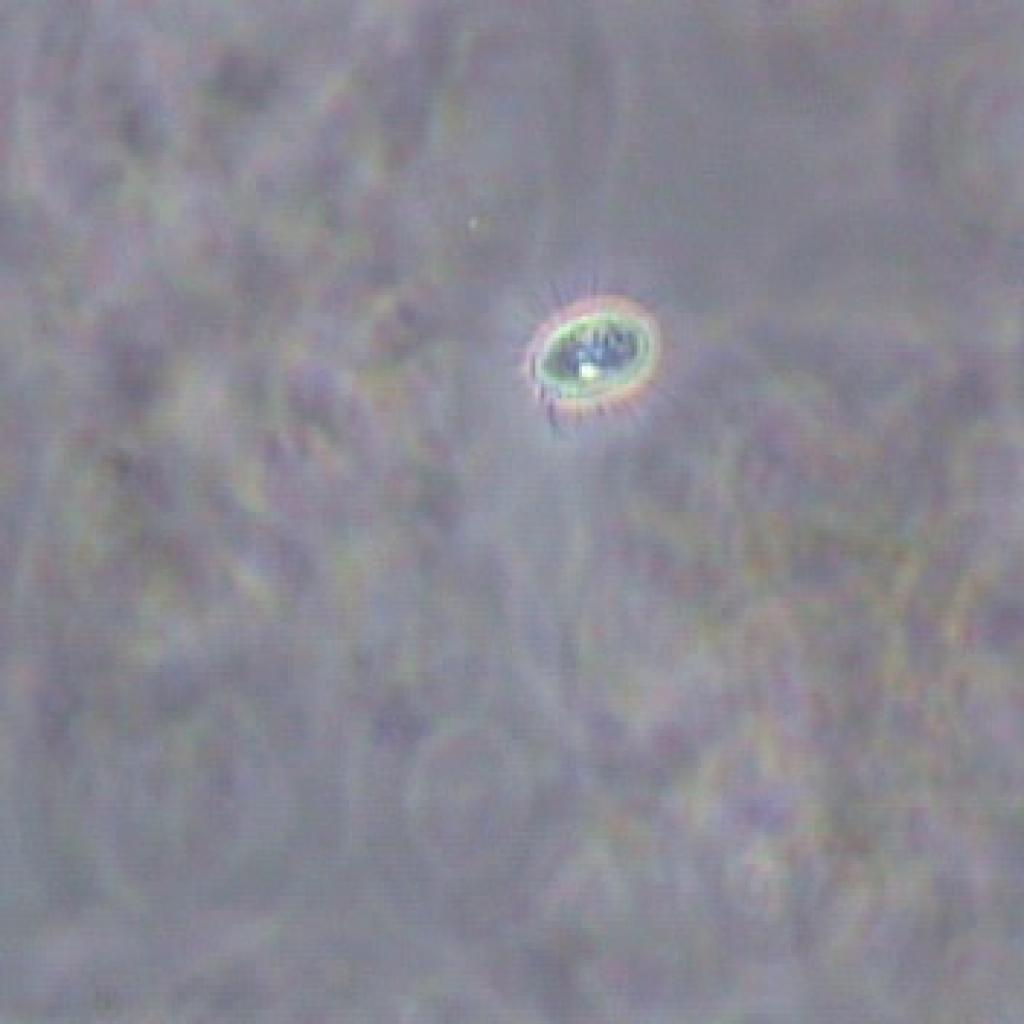Cyclidium: (493, 270, 679, 438)
